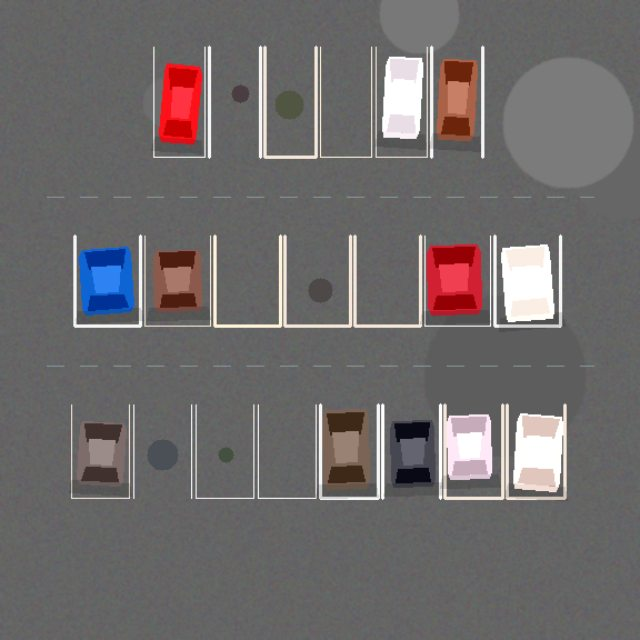space-empty: (214, 236, 280, 326), (284, 236, 350, 326), (354, 236, 420, 326), (264, 47, 316, 157), (209, 47, 260, 157), (320, 47, 371, 157), (133, 404, 191, 498), (258, 404, 316, 498), (196, 404, 253, 498)
space-occupied: (74, 236, 140, 326), (144, 236, 210, 326), (424, 236, 490, 326), (494, 236, 560, 326), (153, 47, 204, 157), (376, 47, 427, 157), (431, 47, 482, 157), (71, 404, 129, 498), (320, 404, 378, 498), (382, 404, 440, 498), (444, 404, 502, 498), (507, 404, 564, 498)
